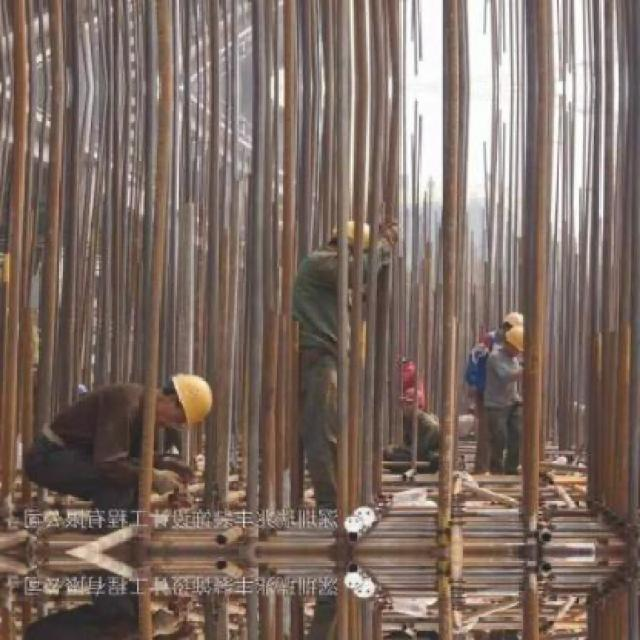helmet: (157, 365, 217, 432), (318, 219, 378, 266), (506, 324, 537, 354), (502, 309, 528, 334)
